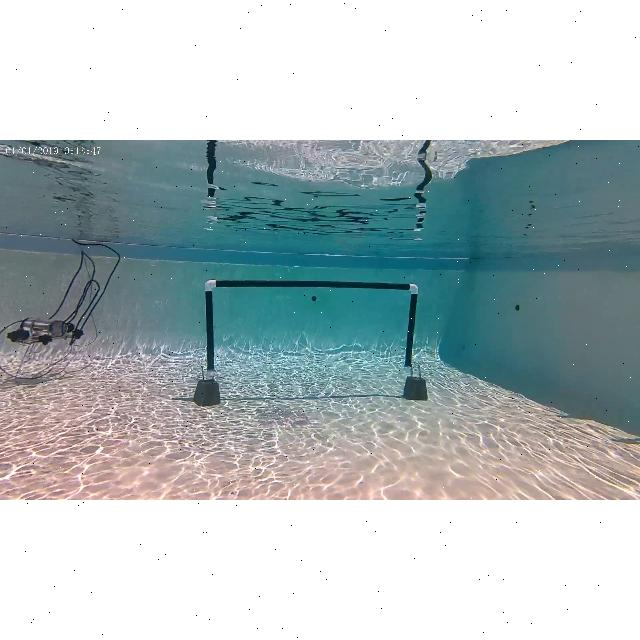prequal gate: (206, 280, 418, 372)
prequal gate leg l: (204, 280, 220, 372)
prequal gate leg r: (405, 282, 419, 370)
